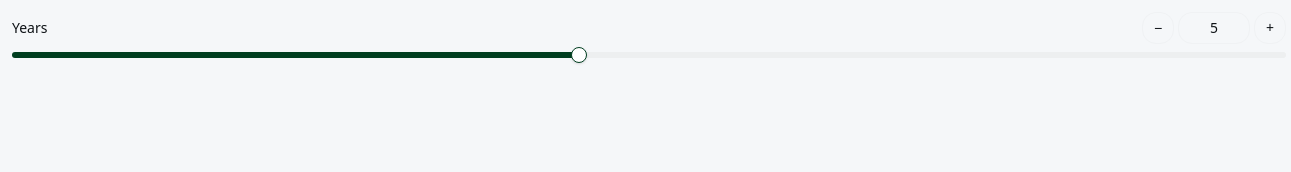
Test: SliderField touch-friendly enhancements › tappable value input › updates value when typing and pressing Enter
The image size is (1291, 172).
Click the button named "edit years value". click: (1214, 28)
box: [1178, 12, 1250, 44]
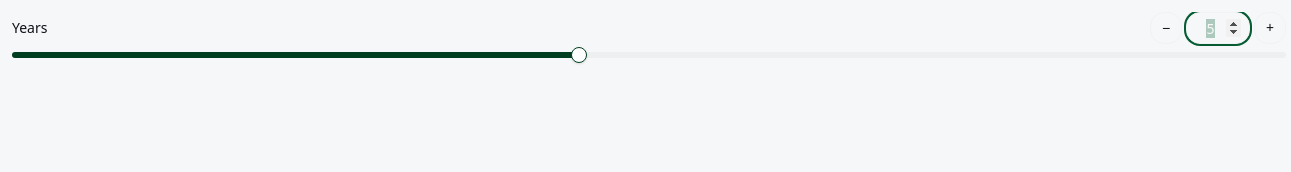
Replace the text in the number field with "8". click: (1218, 28)
box: [1186, 12, 1250, 44]
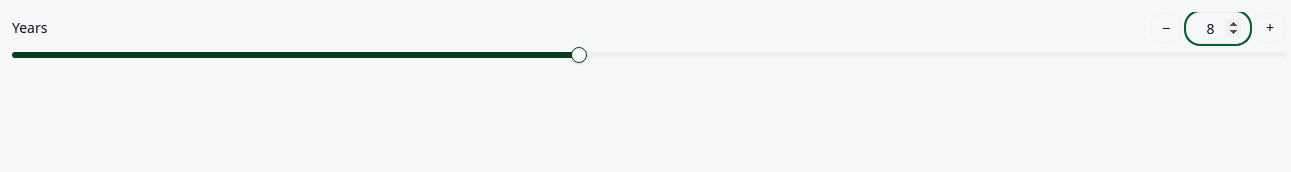
Press Enter
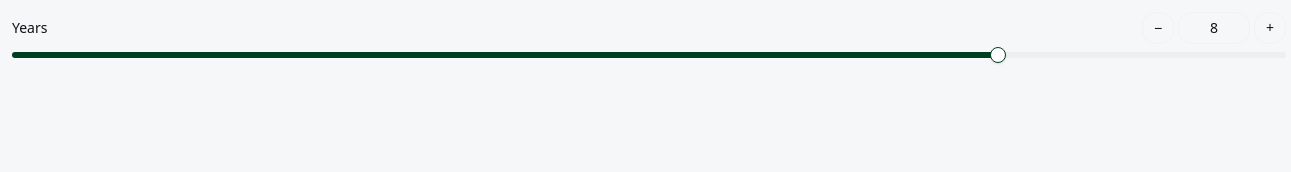
Now the button named "edit years value" reads "8", box [1178, 12, 1250, 44]
